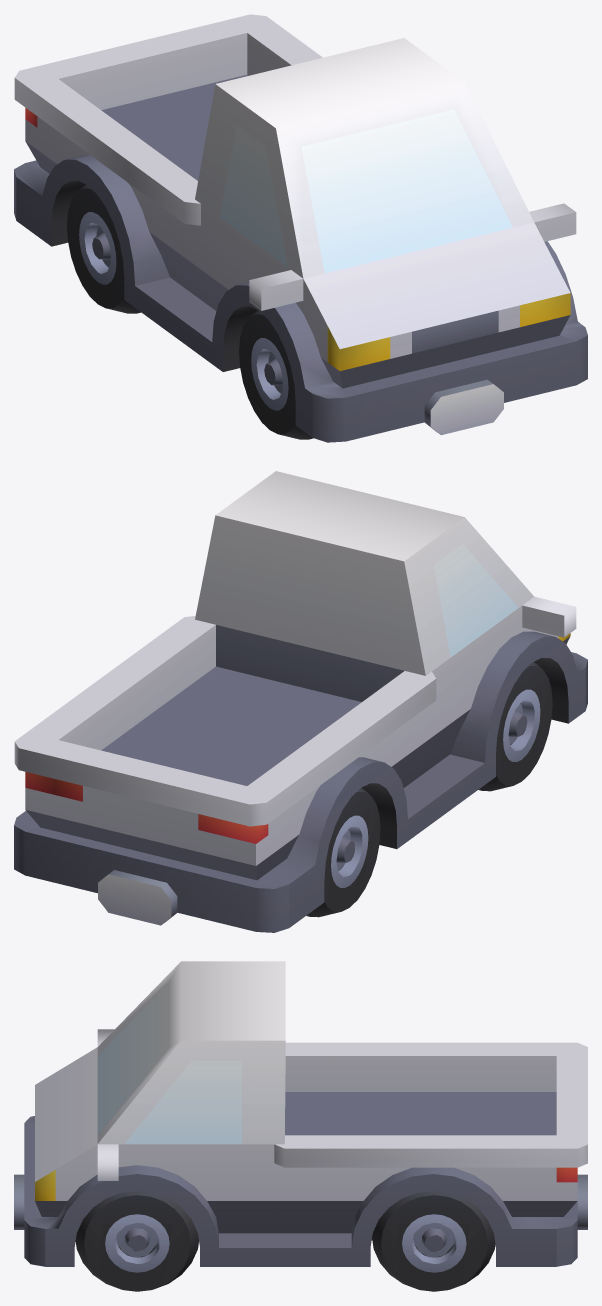
File: traffic_tanker.glb
3 renders of one model, top to bottom at view 1: azimuth 30°, elevation 25°; view 2: azimuth 150°, elevation 25°; view 3: azimuth 270°, elevation 25°, orthographic. The views are drawn at different scales.
Parts seen in each view (by area): view 1: wheel-front-left; view 2: wheel-front-left; view 3: wheel-front-left.
Boxes of the visible parts, left/top/right/bottom form: wheel-front-left: left=14, top=14, right=587, bottom=442; wheel-front-left: left=14, top=471, right=587, bottom=932; wheel-front-left: left=14, top=961, right=587, bottom=1291.
Bounding box in the file's own units: 1.5 × 1.3 × 2.75.
1 material, 1 textured.
